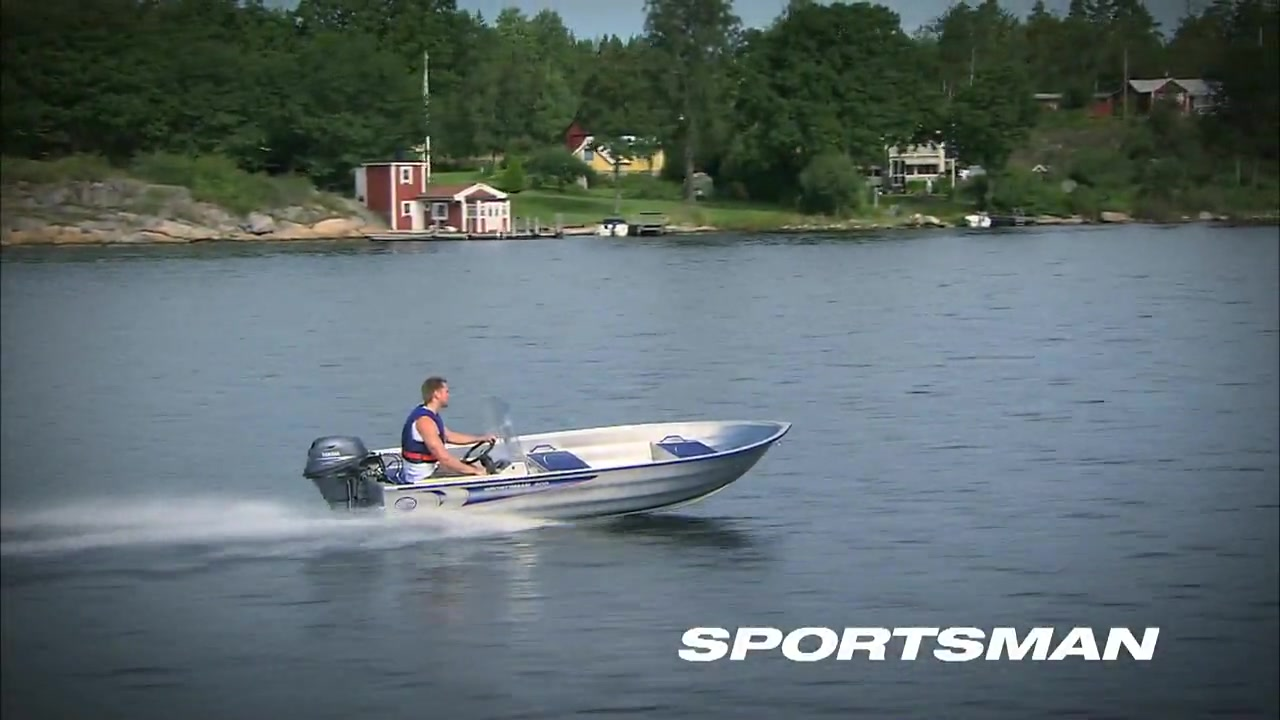boat: (299, 404, 805, 530)
